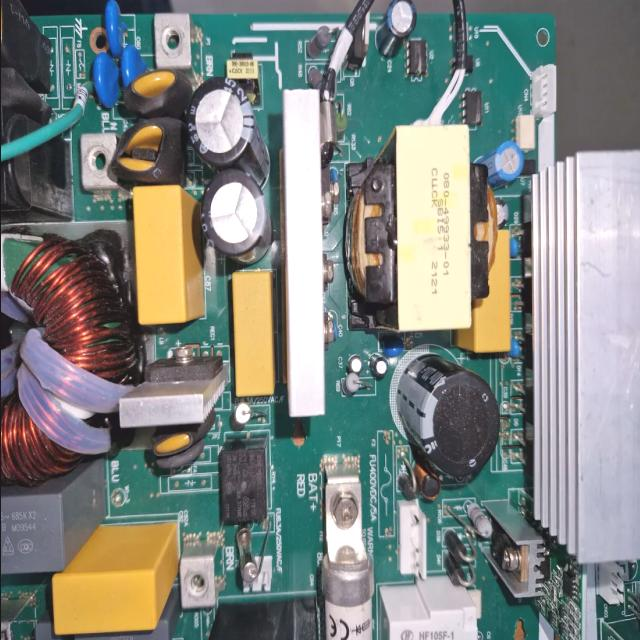A: (0, 241, 128, 487)
B: (321, 460, 371, 640)
C: (396, 356, 498, 476), (186, 76, 256, 166), (200, 170, 267, 263)
G: (531, 149, 640, 560)
